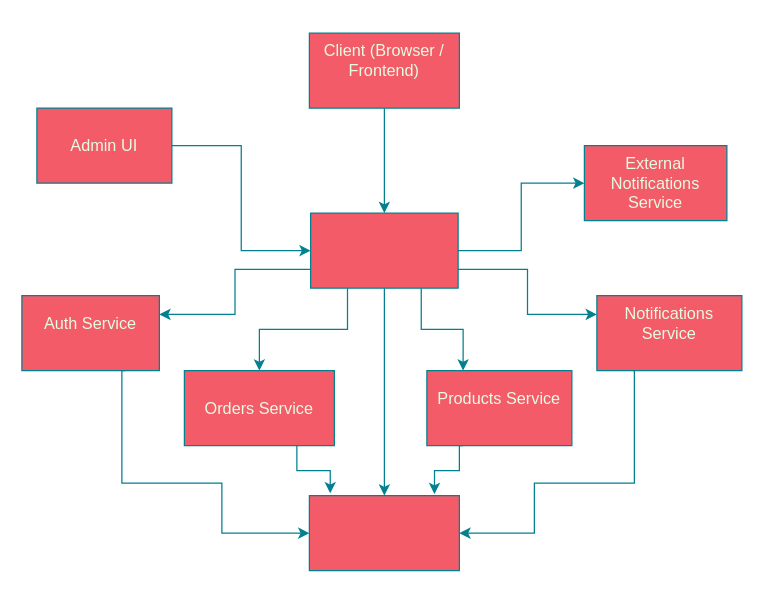
Some shapes in this 764 by 593 pixel diagram are drawn without their labels. Each missing label, with the box of its shape:
Backend (Flask API): (309, 212, 458, 288)
Database (MySQL): (308, 494, 459, 571)
